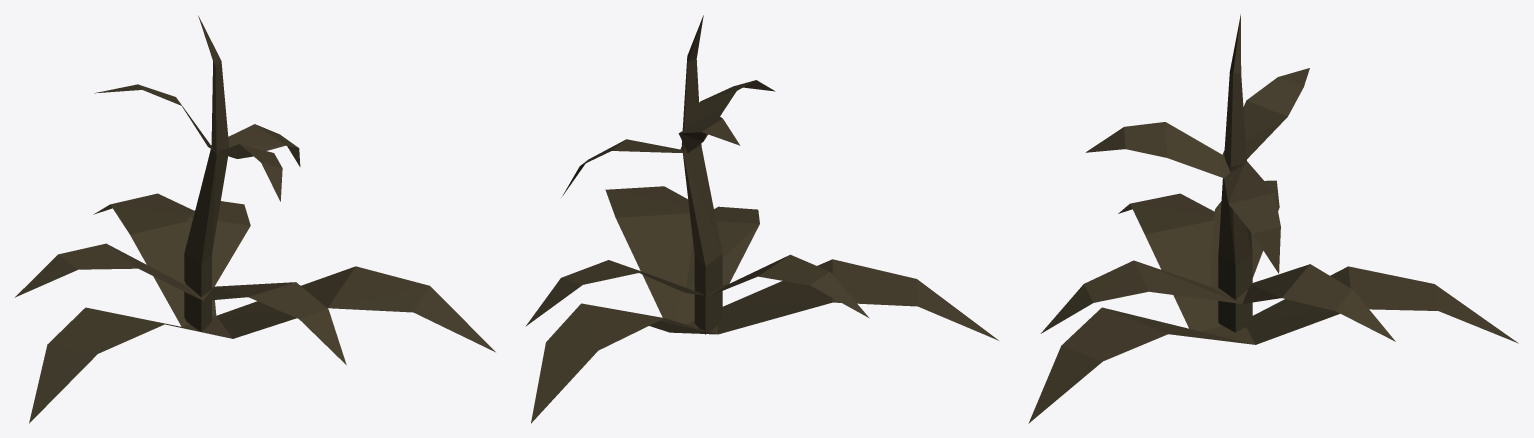
The model's file is ITFO_PLANTS_NIGHTSHADOW_01.OBJ.
The picture shows the model from 3 angles, left to right: view 1: azimuth 30°, elevation 25°; view 2: azimuth 150°, elevation 25°; view 3: azimuth 270°, elevation 25°; orthographic projection.
Parts seen in each view (by area): view 1: ITFO_PLANTS_NIGHTSHADOW_01; view 2: ITFO_PLANTS_NIGHTSHADOW_01; view 3: ITFO_PLANTS_NIGHTSHADOW_01.
Part boxes in pixels (x1,y1,x2,y2): ITFO_PLANTS_NIGHTSHADOW_01: (15, 15, 495, 423); ITFO_PLANTS_NIGHTSHADOW_01: (525, 15, 998, 423); ITFO_PLANTS_NIGHTSHADOW_01: (1028, 14, 1518, 423).
Bounding box in the file's own units: 0.4819 × 0.3408 × 0.477.
